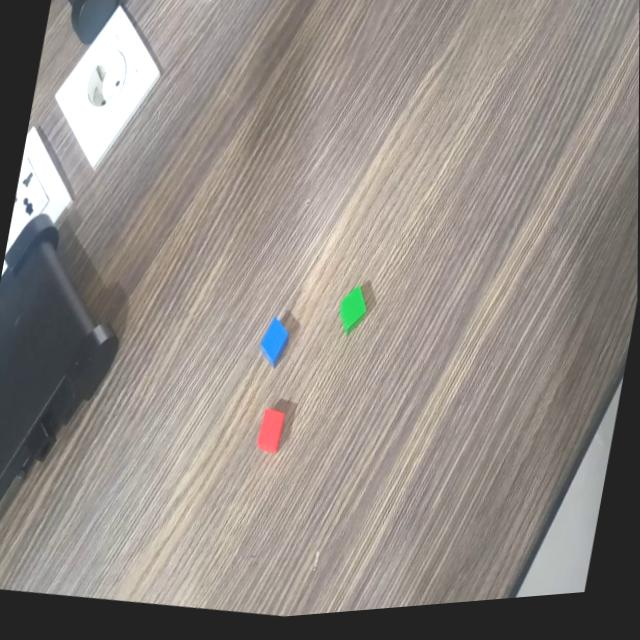cube: (331, 284, 374, 345), (254, 313, 295, 375), (253, 401, 290, 465)
